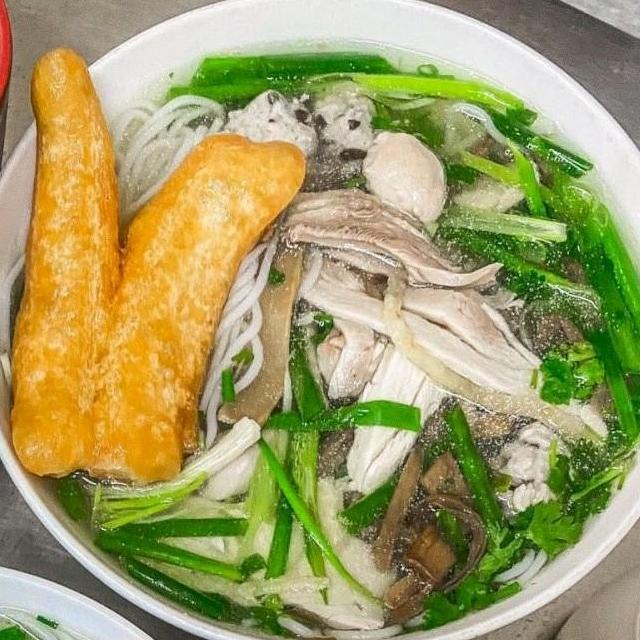bun: (195, 221, 286, 450), (98, 87, 232, 211)
vien moc: (221, 86, 329, 167), (309, 75, 382, 178)
